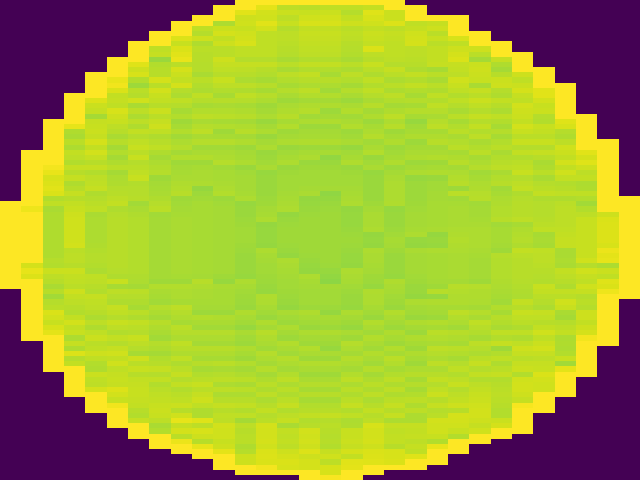sphere: (4, 1, 640, 480)
